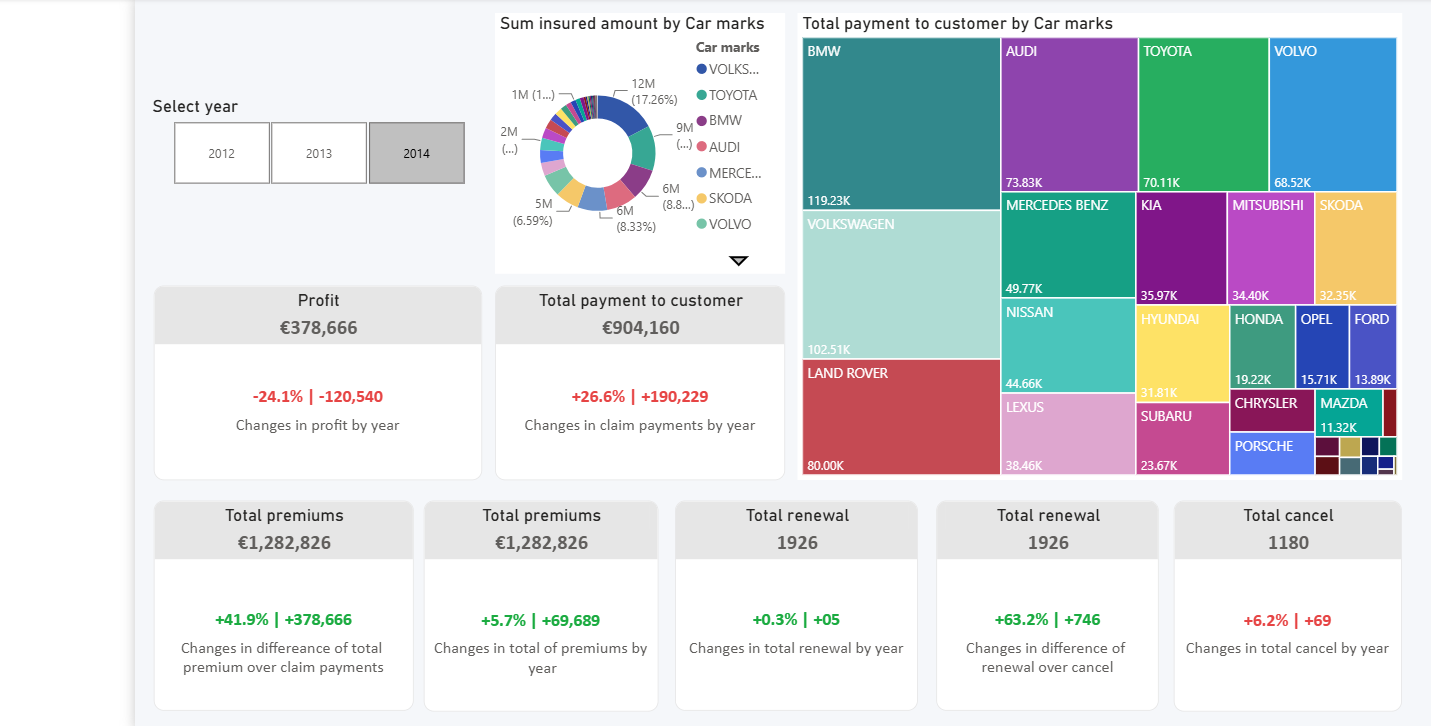

This screenshot's page, from the dashboard's own definition file:
{"tool":"powerbi","page":{"name":"Portfolio","canvas":[1280,720],"ordinal":0},"visuals":[{"type":"card","title":"Total premiums","fields":{"Values":["calculations.KPI Total Premium vs Incured amount"]},"box":[18.8,493.8,255,206.2],"z":0},{"type":"card","title":"Total payment to customer","fields":{"Values":["calculations.KPI Increase Incurred Amount ThisYear"]},"box":[353.8,282.5,285,191.2],"z":1000},{"type":"slicer","title":"Select year","fields":{"Values":["policies.year"]},"box":[12.5,96.2,335,93.8],"z":2000},{"type":"card","title":"Total premiums","fields":{"Values":["calculations.KPI Increase Premium ThisYear"]},"box":[283.8,493.8,230,207.5],"z":3000},{"type":"card","title":"Profit","fields":{"Values":["calculations.KPI Increase Profit ThisYear"]},"box":[18.8,282.5,322.5,191.2],"z":4000},{"type":"treemap","fields":{"Group":["policies.Mark"],"Values":["calculations.SumOfIncurrendAmount"]},"box":[650,15,593.8,458.8],"z":5000},{"type":"card","title":"Total renewal","fields":{"Values":["calculations.KPI Renewal Versus Cancel"]},"box":[786.2,493.8,218.8,206.2],"z":6000},{"type":"card","title":"Total renewal","fields":{"Values":["calculations.KPI Increase Renewal ThisYear"]},"box":[530,493.8,238.8,206.2],"z":7000},{"type":"card","title":"Total cancel","fields":{"Values":["calculations.KPI Increase Cancel ThisYear"]},"box":[1020,493.8,223.8,207.5],"z":8000},{"type":"donutChart","fields":{"Y":["Sum(policies.suminsured)"],"Category":["policies.Mark"]},"box":[353.8,15,285,256.2],"z":9000}]}

Visuals, with their boxes on the page's 1280x720 design canvas (x1, y1, x2, y2). These are canvas units, not pixel positions in the 1431x726 screenshot, which may show the page scaled, cropped or inside an application window:
"Total premiums" card: detection(19, 494, 274, 700)
"Total payment to customer" card: detection(354, 282, 639, 474)
"Select year" slicer: detection(12, 96, 348, 190)
"Total premiums" card: detection(284, 494, 514, 701)
"Profit" card: detection(19, 282, 341, 474)
treemap - policies.Mark x calculations.SumOfIncurrendAmount: detection(650, 15, 1244, 474)
"Total renewal" card: detection(786, 494, 1005, 700)
"Total renewal" card: detection(530, 494, 769, 700)
"Total cancel" card: detection(1020, 494, 1244, 701)
donutChart - Sum(policies.suminsured) x policies.Mark: detection(354, 15, 639, 271)
